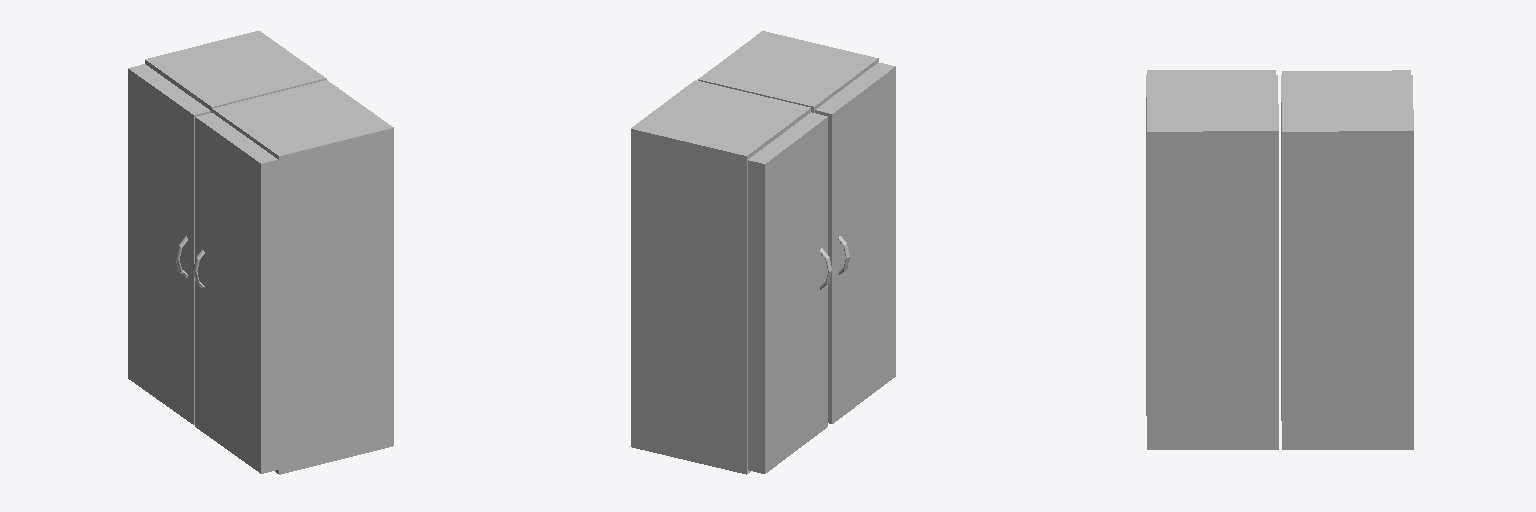
The model's file is fridge2.obj.
3 views of the same model, side by side, from view 1: azimuth 30°, elevation 25°; view 2: azimuth 150°, elevation 25°; view 3: azimuth 270°, elevation 25° (orthographic).
Size of the model in its own units: 47.26 by 100 by 76.48.